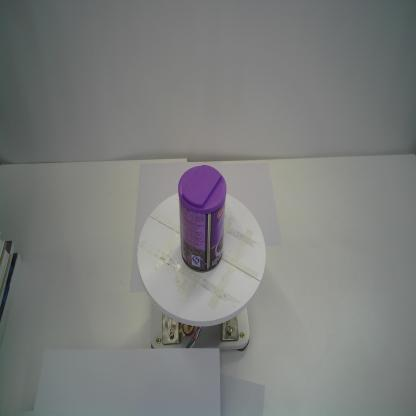Canned Food: (178, 164, 228, 274)
